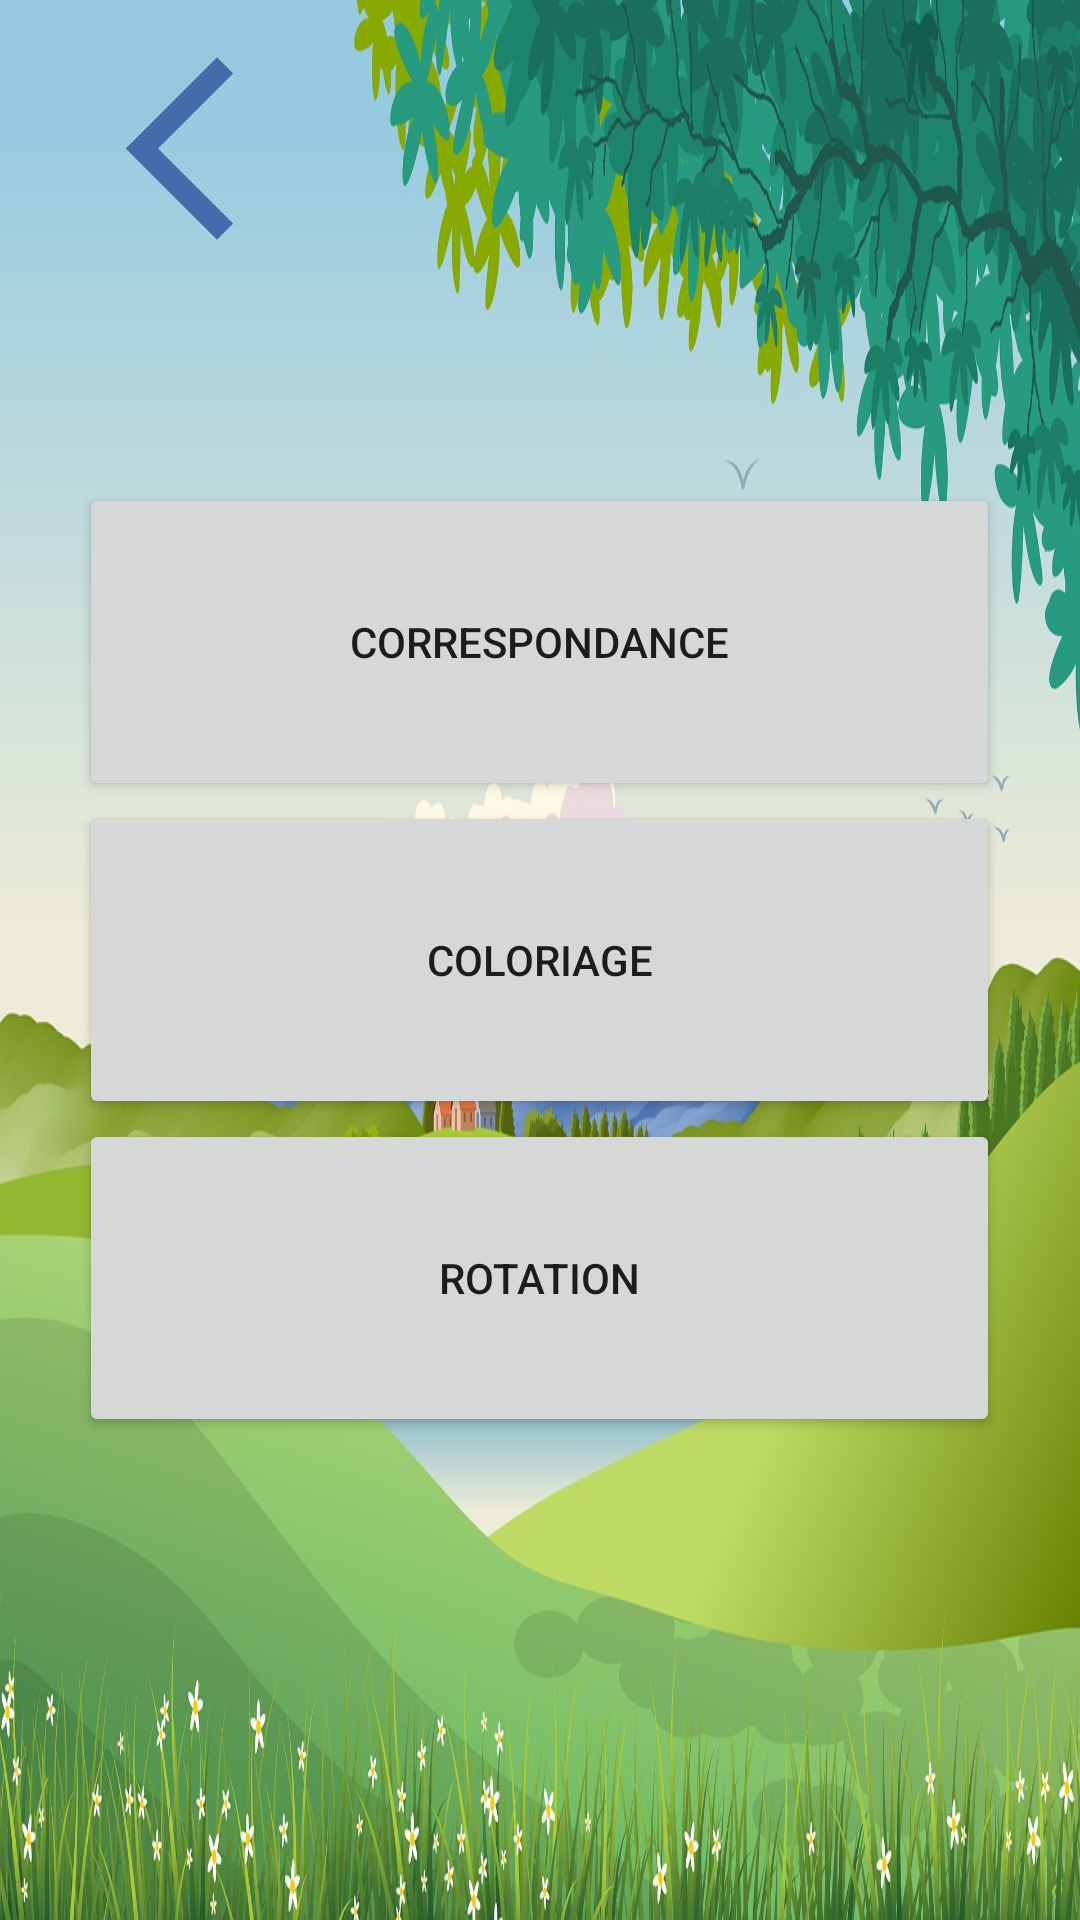

Named icons in this screenshot (1080×1920) and their centers, (x=x, y=y):
arrow back: (x=179, y=148)
